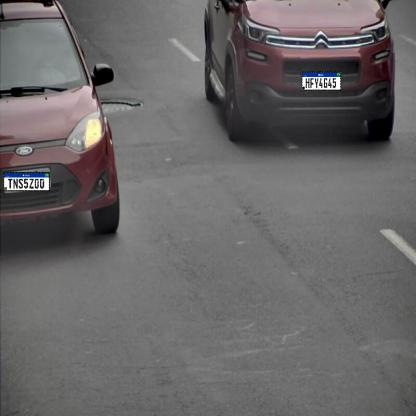PlacaM: (3, 172, 50, 191), (302, 71, 341, 91)
